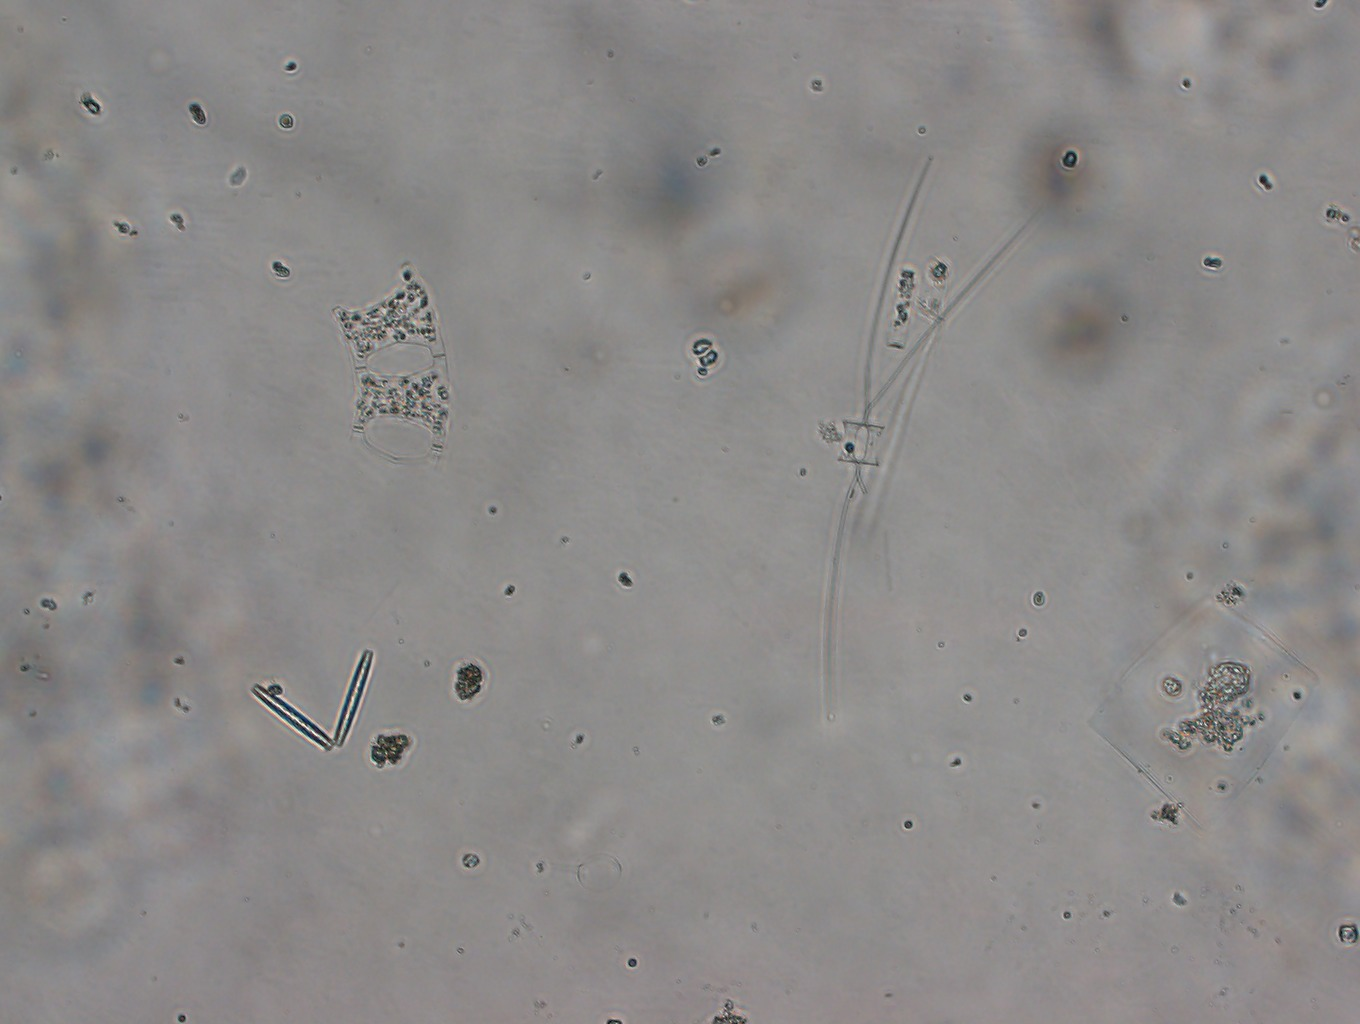chaetoceros: (794, 136, 1030, 729)
eucampia: (313, 257, 460, 493)
helicotheca: (1073, 589, 1325, 833)
thalassionema nitzschioides: (244, 648, 374, 750)
